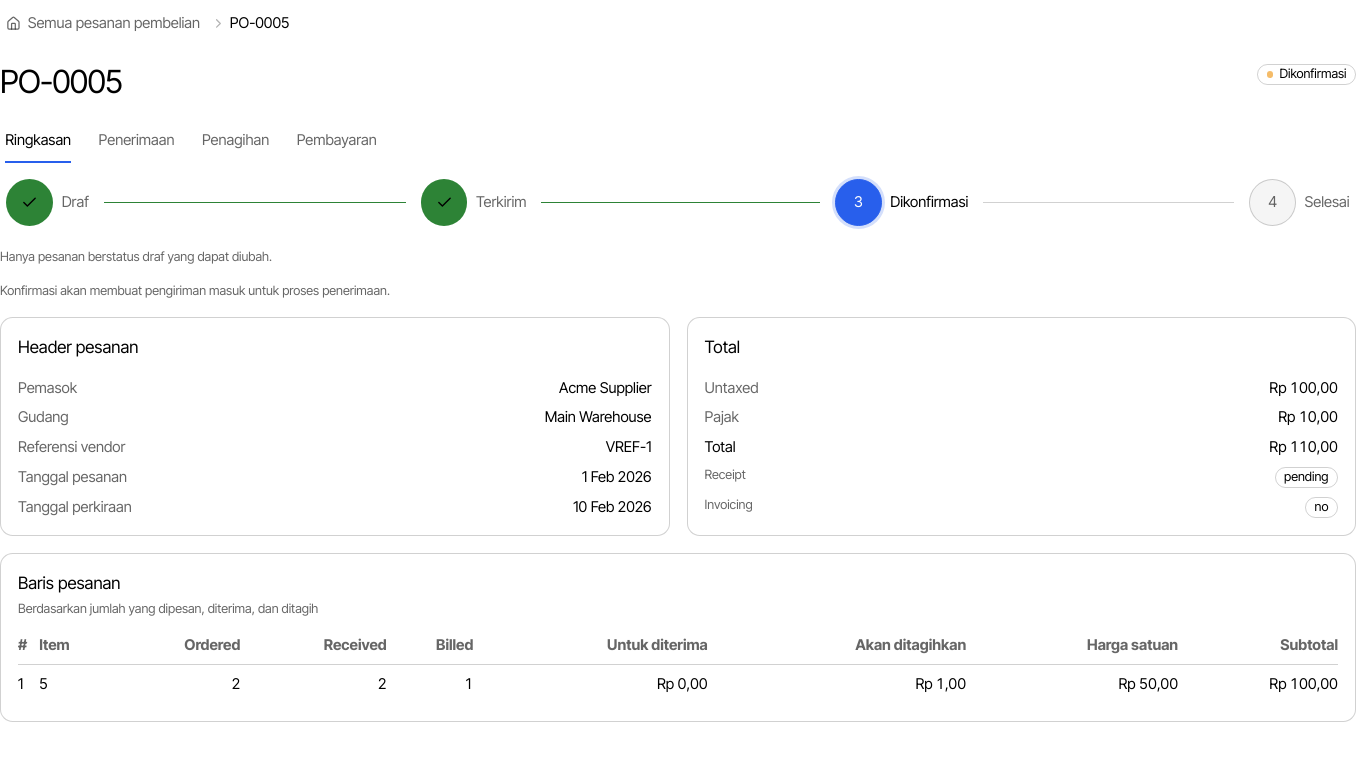
Test: PurchaseOrderDetail branches3 › opens the bill dialog when partially-billed lines exist
Step 1. Click the tab "Penagihan" → (236, 141), box 201,117 -> 270,164
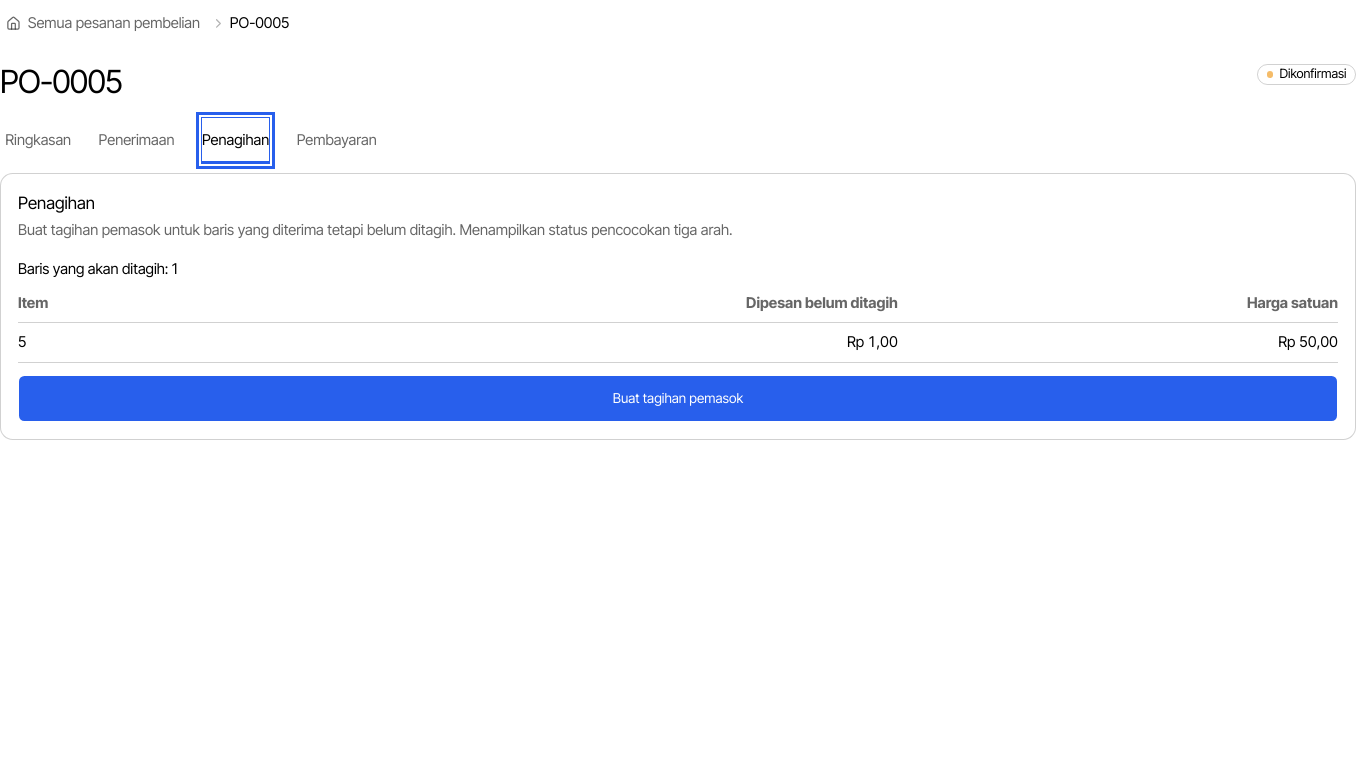
Step 2. Click the button "Buat tagihan pemasok" → (678, 399), box 18,375 -> 1338,422
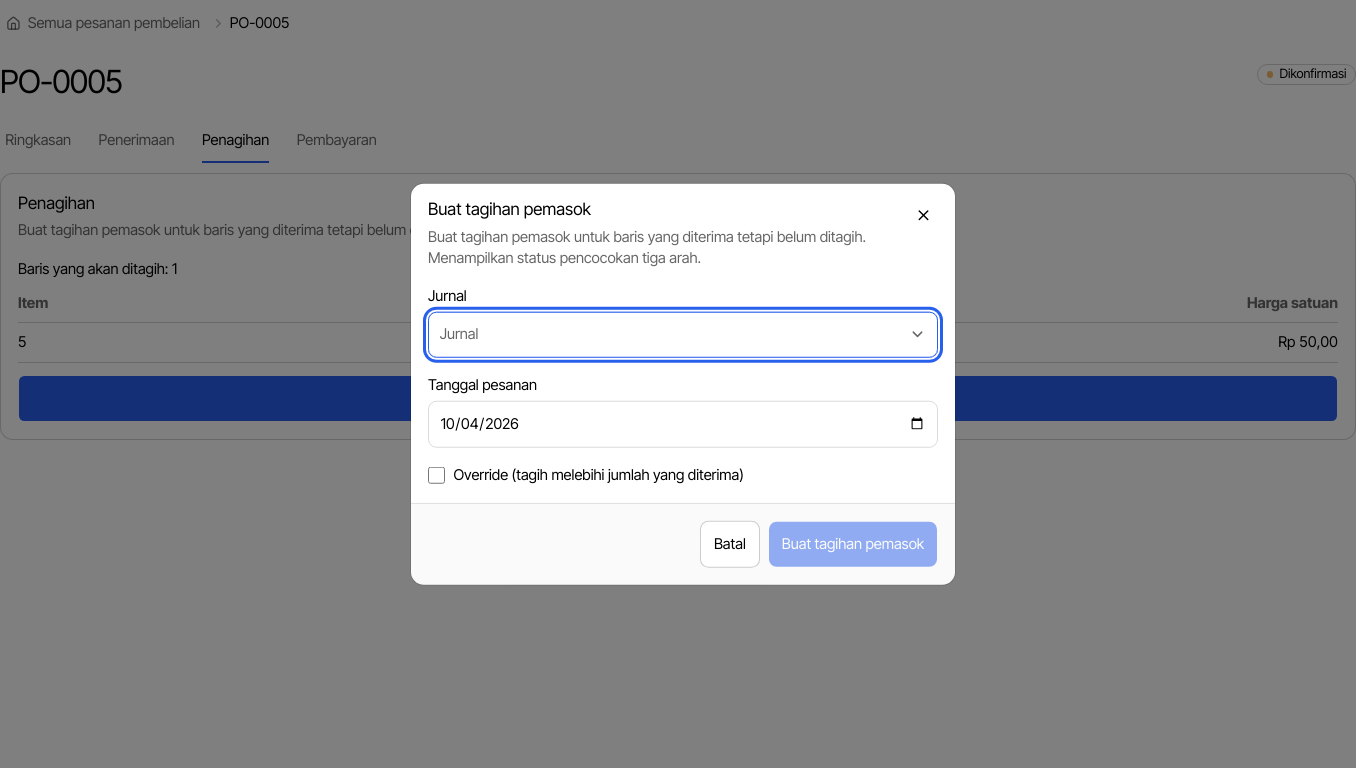
Check: the dialog is shown, box 411,184 -> 955,584
